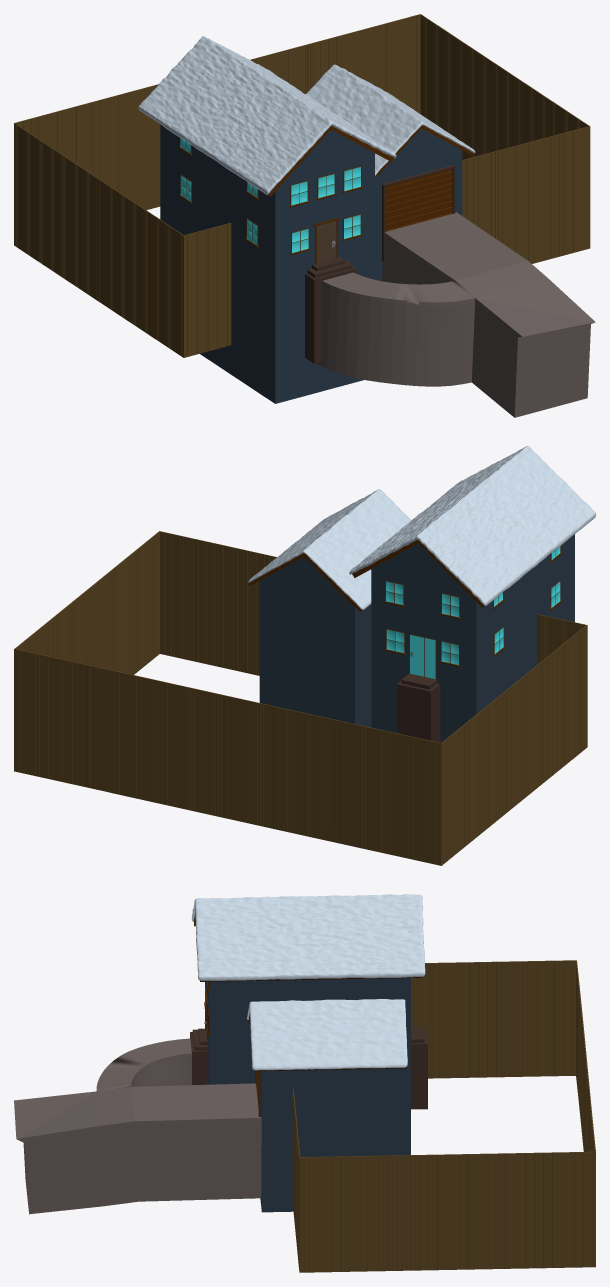
The model's file is mackeyshouse_compressed.glb.
3 views of the same model, one above another, from view 1: azimuth 30°, elevation 25°; view 2: azimuth 150°, elevation 25°; view 3: azimuth 270°, elevation 25° (orthographic). The views are drawn at different scales.
Parts seen in each view (by area): view 1: Cube.899, Cube.905, Cube.910, Cube.924, Cube.906, Cube.907, Cube.920; view 2: Cube.899, Cube.910, Cube.924, Cube.906, Cube.907; view 3: Cube.899, Cube.905, Cube.924, Cube.910, Cube.907, Cube.906.
Part boxes in pixels (x1=…): Cube.899: x1=14, y1=14, x2=590, y2=357; Cube.905: x1=316, y1=212, x2=595, y2=417; Cube.910: x1=160, y1=124, x2=462, y2=403; Cube.924: x1=138, y1=36, x2=475, y2=194; Cube.906: x1=178, y1=125, x2=474, y2=264; Cube.907: x1=305, y1=164, x2=455, y2=363; Cube.920: x1=317, y1=221, x2=336, y2=263; Cube.899: x1=14, y1=531, x2=587, y2=865; Cube.910: x1=259, y1=534, x2=574, y2=742; Cube.924: x1=248, y1=446, x2=595, y2=609; Cube.906: x1=248, y1=539, x2=562, y2=679; Cube.907: x1=397, y1=673, x2=440, y2=742; Cube.899: x1=292, y1=960, x2=595, y2=1272; Cube.905: x1=14, y1=1038, x2=261, y2=1214; Cube.924: x1=191, y1=894, x2=425, y2=1070; Cube.910: x1=205, y1=978, x2=410, y2=1212; Cube.907: x1=190, y1=1026, x2=427, y2=1116; Cube.906: x1=194, y1=913, x2=421, y2=1107.
Size of the model in its own units: 4.89 by 2.99 by 6.1.
